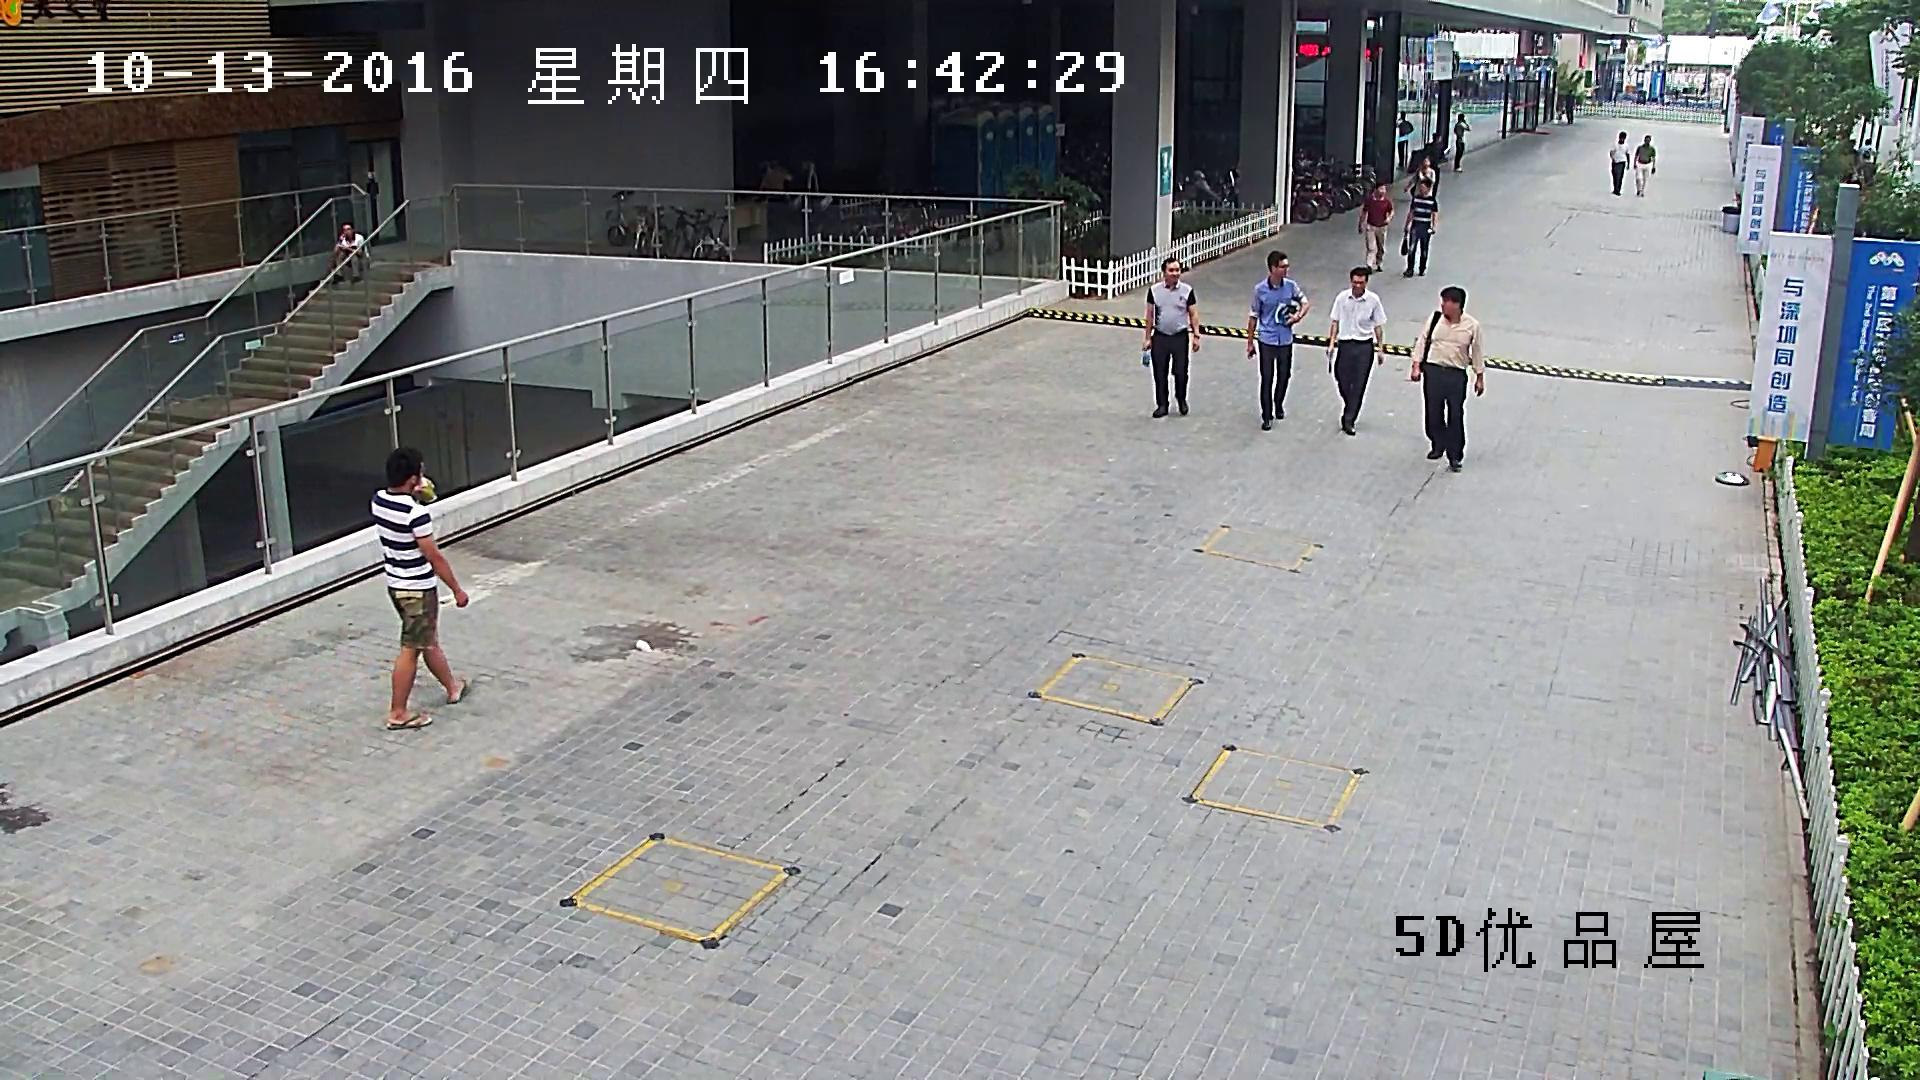person: (369, 447, 470, 731), (1410, 286, 1485, 473), (1246, 251, 1310, 430), (1325, 267, 1386, 436), (1142, 257, 1200, 419), (1400, 178, 1438, 277), (1357, 181, 1394, 274), (331, 221, 370, 284), (1633, 135, 1656, 196), (1424, 133, 1446, 195), (1609, 130, 1630, 195), (1403, 155, 1435, 196), (1453, 114, 1471, 172), (1396, 110, 1413, 168), (1565, 89, 1574, 124), (1862, 138, 1873, 162)
